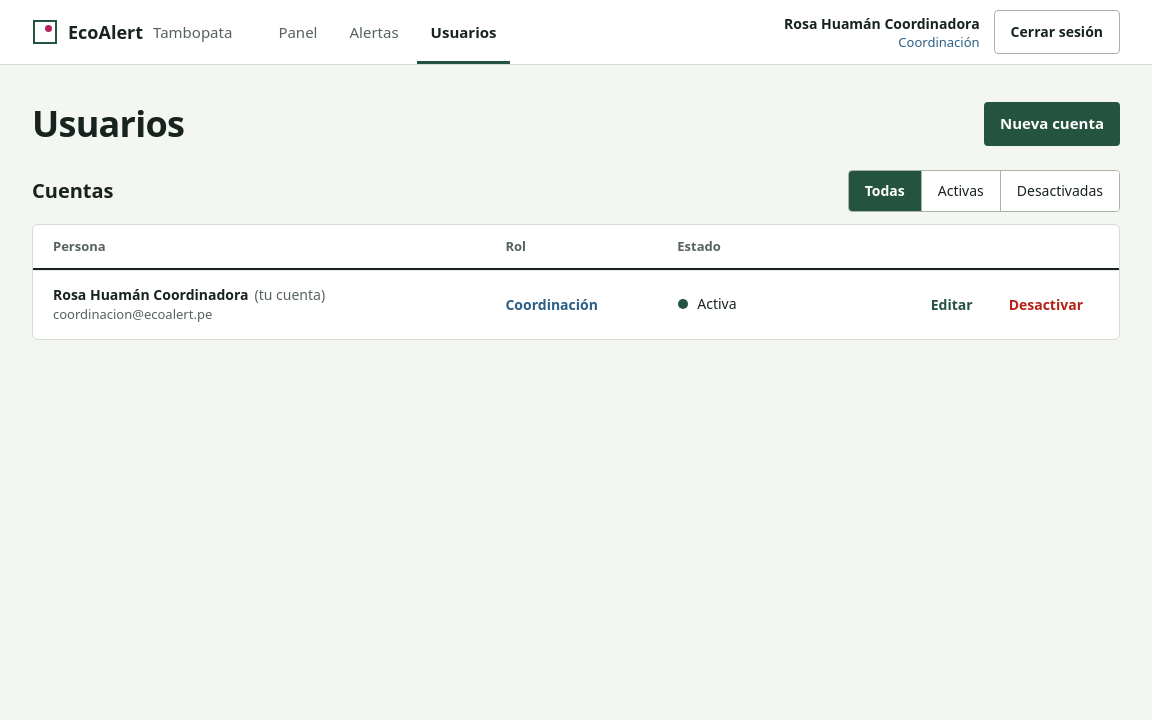
Test: UsuariosPage (RF-02) › rechaza en el cliente una contraseña temporal de 11 caracteres (RF-02-AC-3)
Check: the text "coordinacion@ecoalert.pe" is shown, box [53,305,212,323]
Click the button "Nueva cuenta".
click(1052, 124)  # box [984,102,1120,146]
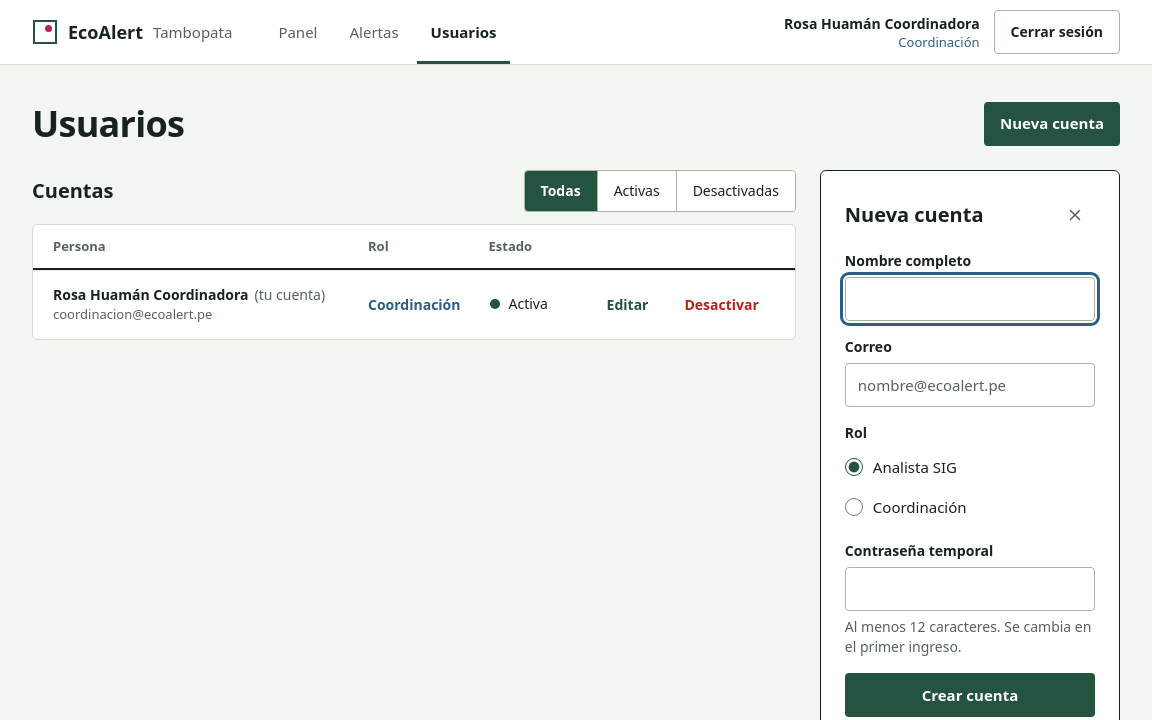
Type "Luis Condori" into the field labelled "Nombre completo".
click(970, 299); type("Luis Condori")  # box [845,277,1095,321]
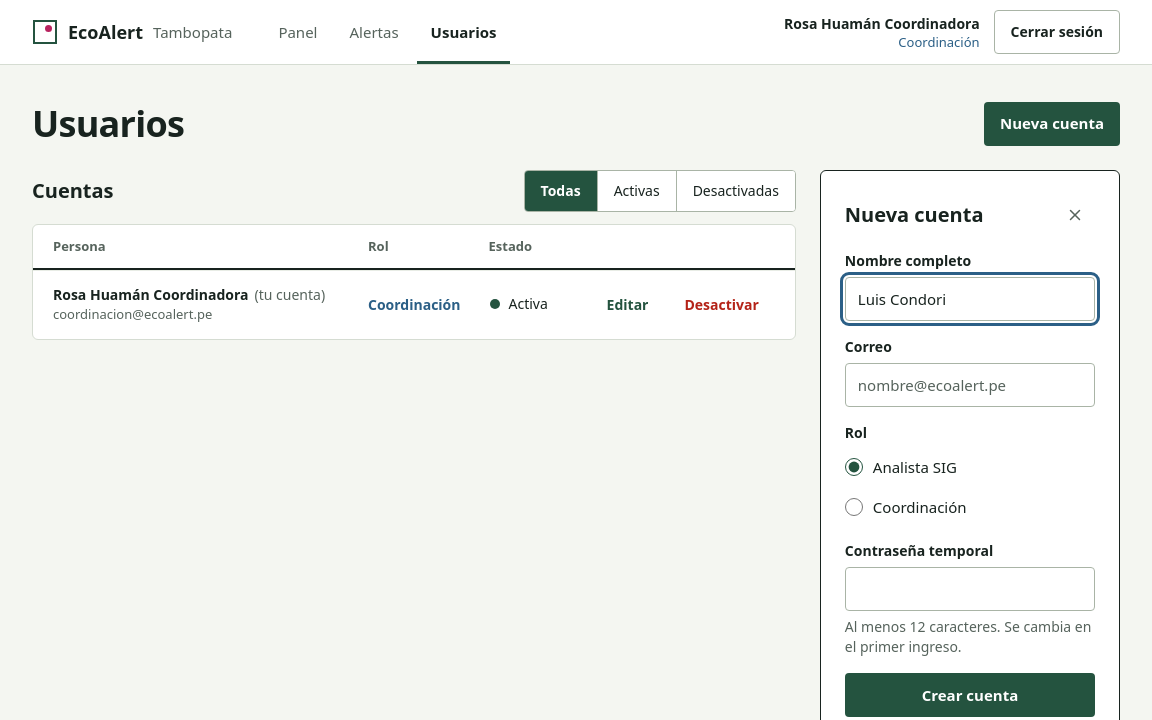
Type "luis.condori@ecoalert.pe" into the field labelled "Correo".
click(970, 385); type("luis.condori@ecoalert.pe")  # box [845,363,1095,407]
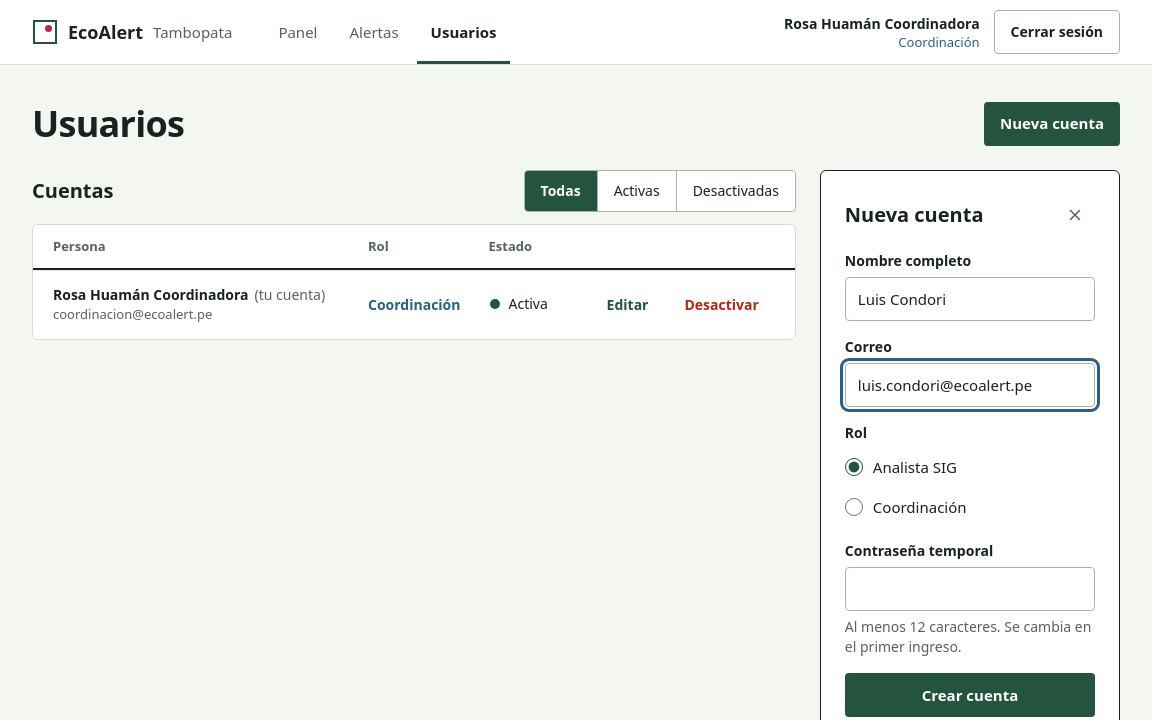
Type "12345678901" into the password field labelled "Contraseña temporal".
click(970, 589); type("12345678901")  # box [845,567,1095,611]
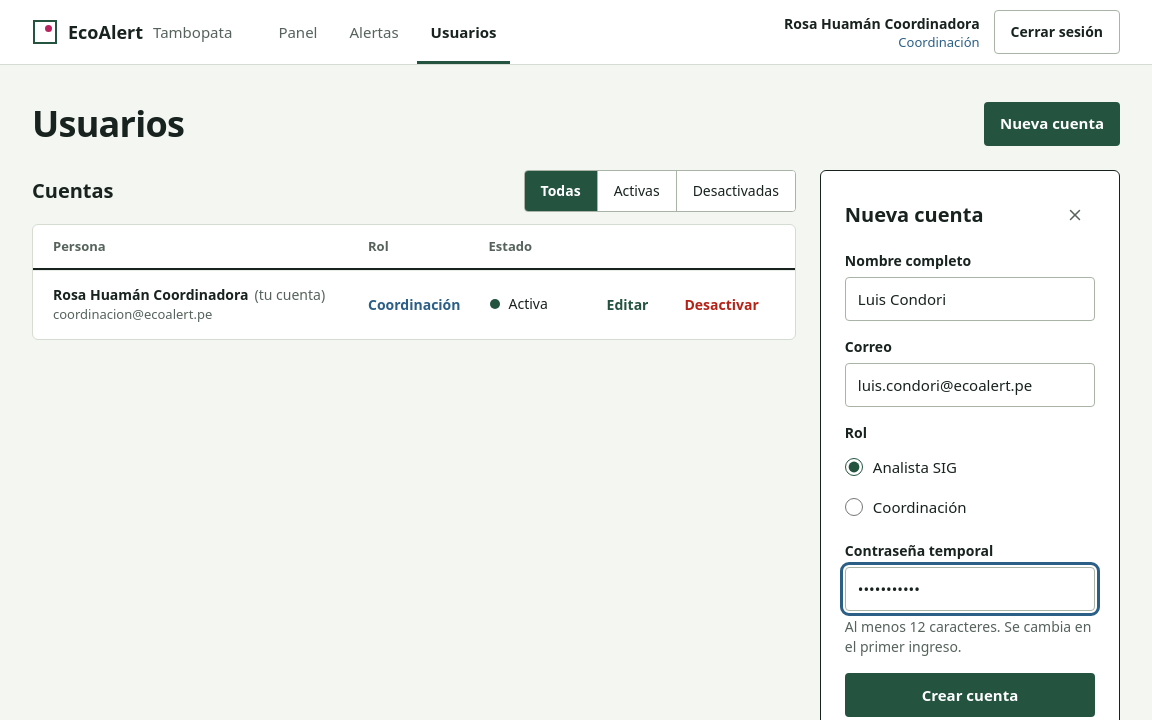
Click the button "Crear cuenta".
click(970, 695)  # box [845,673,1095,717]
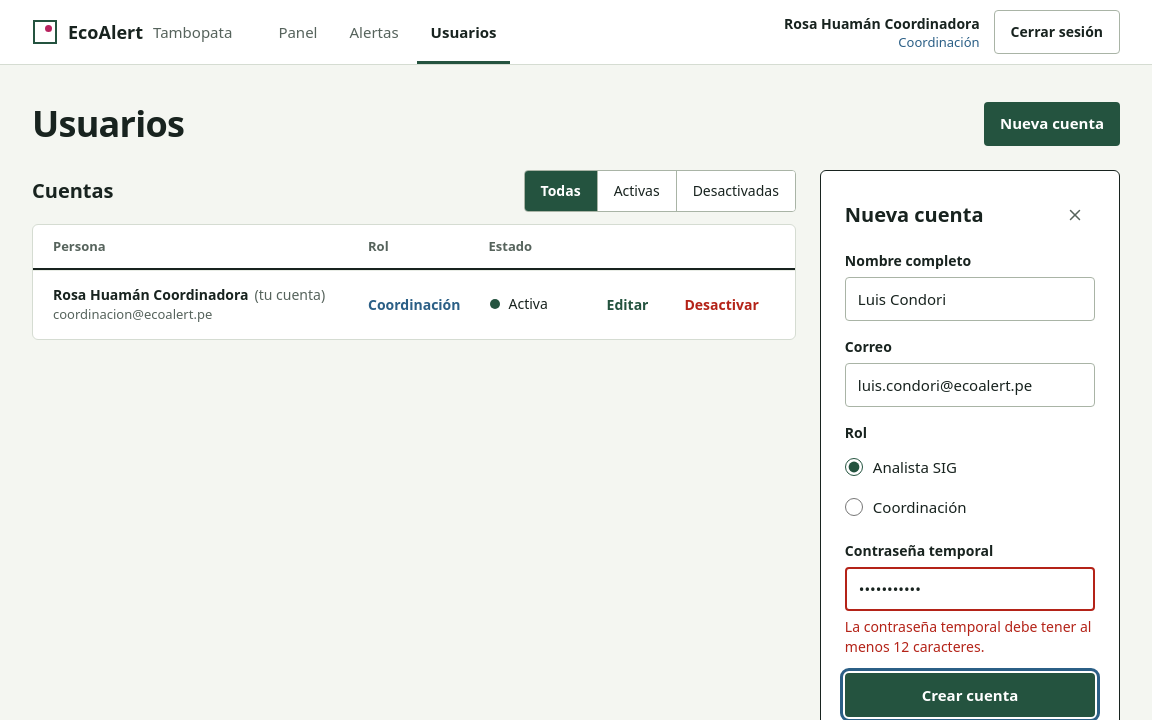
Check: the text "La contraseña temporal debe tener al menos 12 caracteres." is shown, box [845,617,1095,657]
